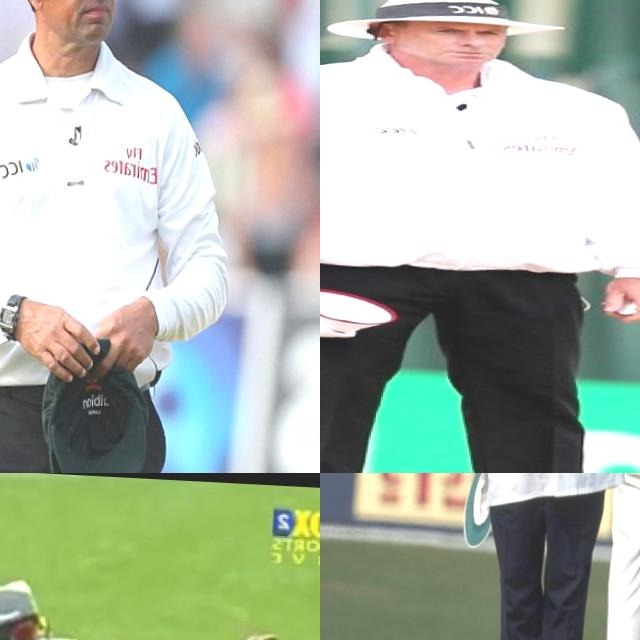No_Action: (320, 0, 640, 473), (0, 0, 260, 473)
Out: (446, 473, 640, 640)
Wide: (0, 556, 288, 640)
